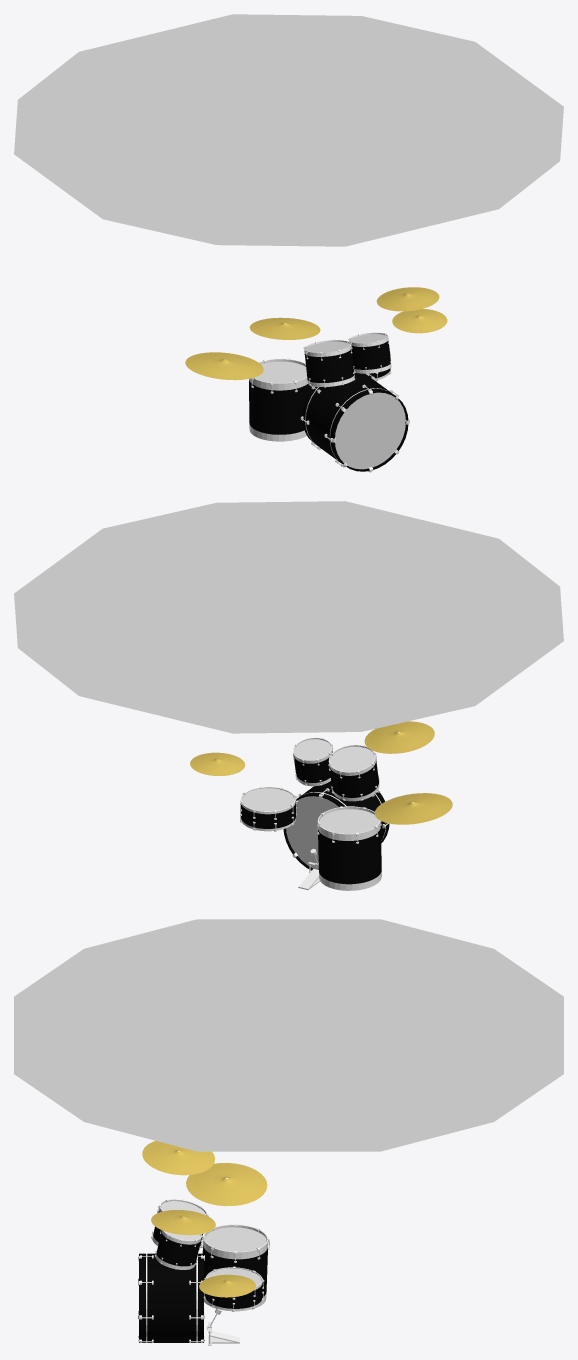
File: DRUM5차백업.glb
3 renders of one model, top to bottom at view 1: azimuth 30°, elevation 25°; view 2: azimuth 150°, elevation 25°; view 3: azimuth 270°, elevation 25°, orthographic. The views are drawn at different scales.
Parts seen in each view (by area): view 1: Plane.001, kick.002, tom2.004, tom2, Circle.002, tom1, Circle.001, Circle, Circle.004; view 2: Plane.001, tom2.004, kick.002, tom2, snare, Circle.002, Circle.001, tom1, Circle.004; view 3: Plane.001, kick.002, tom2.004, Circle.002, Circle.001, tom1, snare, Circle, Circle.004, tom2.
Boxes of the visible parts, x1,y1,x2,y2 form: Plane.001: (14, 14, 563, 246); kick.002: (300, 373, 409, 472); tom2.004: (249, 358, 311, 441); tom2: (303, 339, 355, 387); Circle.002: (185, 352, 263, 380); tom1: (348, 332, 391, 373); Circle.001: (249, 317, 320, 339); Circle: (376, 287, 439, 311); Circle.004: (392, 309, 447, 333); Plane.001: (14, 501, 563, 733); tom2.004: (317, 806, 381, 890); kick.002: (283, 781, 389, 870); tom2: (328, 745, 379, 801); snare: (240, 786, 296, 831); Circle.002: (374, 793, 452, 824); Circle.001: (364, 721, 434, 753); tom1: (292, 737, 333, 786); Circle.004: (190, 752, 245, 775); Plane.001: (14, 919, 563, 1151); kick.002: (138, 1253, 204, 1342); tom2.004: (201, 1224, 269, 1309); Circle.002: (186, 1163, 267, 1206); Circle.001: (142, 1140, 214, 1175); tom1: (154, 1230, 202, 1269); snare: (203, 1266, 264, 1311); Circle: (151, 1210, 215, 1235); Circle.004: (199, 1274, 255, 1297); tom2: (151, 1199, 208, 1250).
Bounding box in the file's own units: 3.43 × 2.07 × 3.43.
